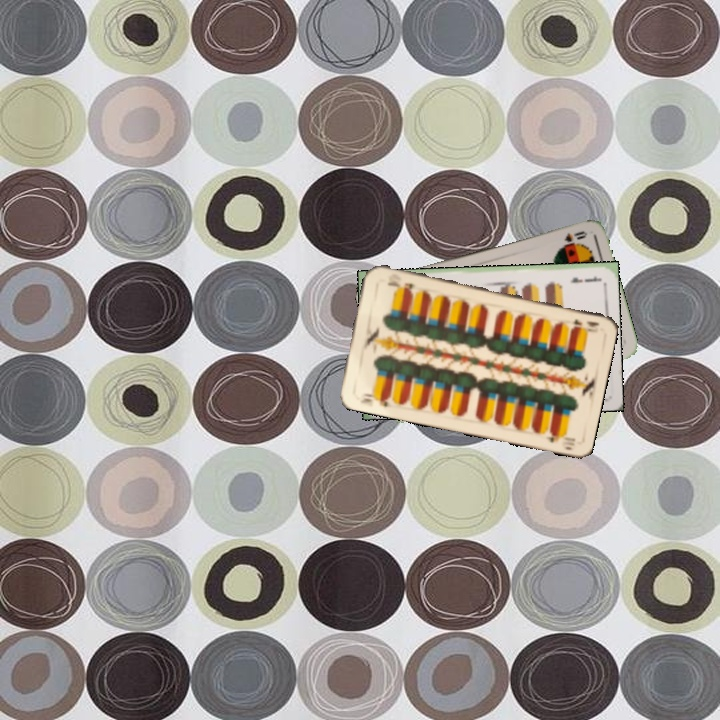E10: (356, 389, 393, 409), (568, 315, 602, 332)
E7: (566, 272, 602, 286)
SO: (560, 227, 590, 245)
